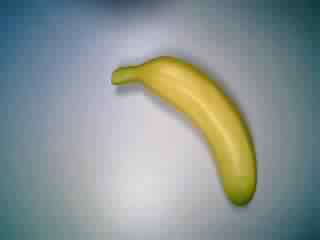banana: (107, 44, 265, 210)
